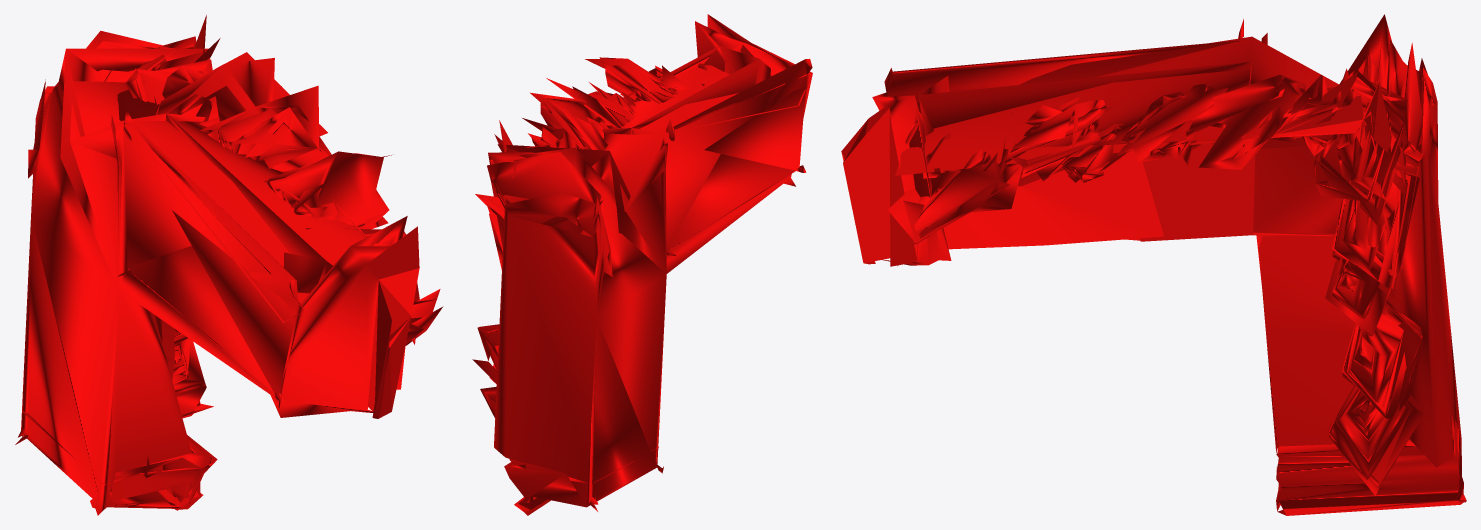
The picture shows the model from 3 angles, left to right: view 1: azimuth 30°, elevation 25°; view 2: azimuth 150°, elevation 25°; view 3: azimuth 270°, elevation 25°; orthographic projection. The views are drawn at different scales.
Parts seen in each view (by area): view 1: Renderer Node; view 2: Renderer Node; view 3: Renderer Node.
Boxes of the visible parts, left/top/right/bottom form: Renderer Node: left=15, top=15, right=443, bottom=515; Renderer Node: left=472, top=14, right=812, bottom=515; Renderer Node: left=841, top=14, right=1466, bottom=515.
Bounding box in the file's own units: 0.3017 × 0.6367 × 0.7734.
Materials: 1 (1 with a texture image).
